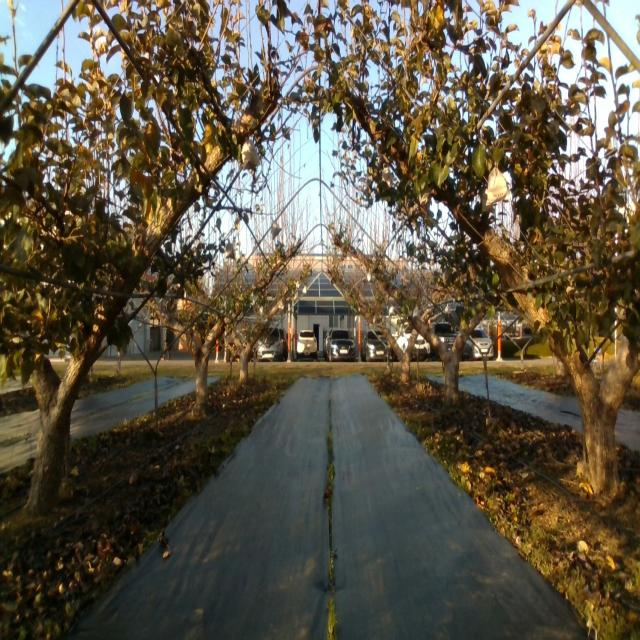pearbags: (485, 163, 513, 206), (242, 138, 260, 170), (271, 222, 282, 240), (225, 242, 235, 260)
